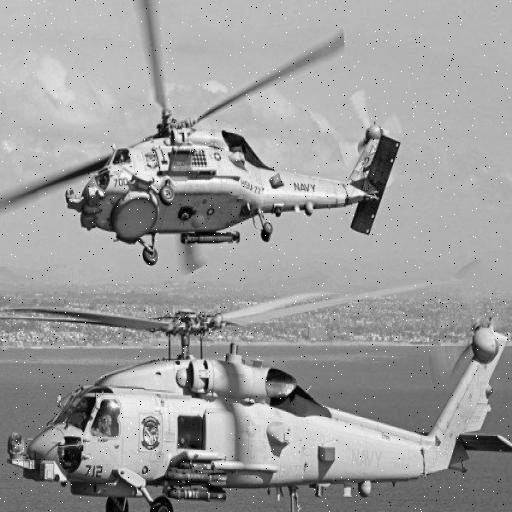helicopter: (1, 194, 512, 495), (1, 1, 370, 276)
